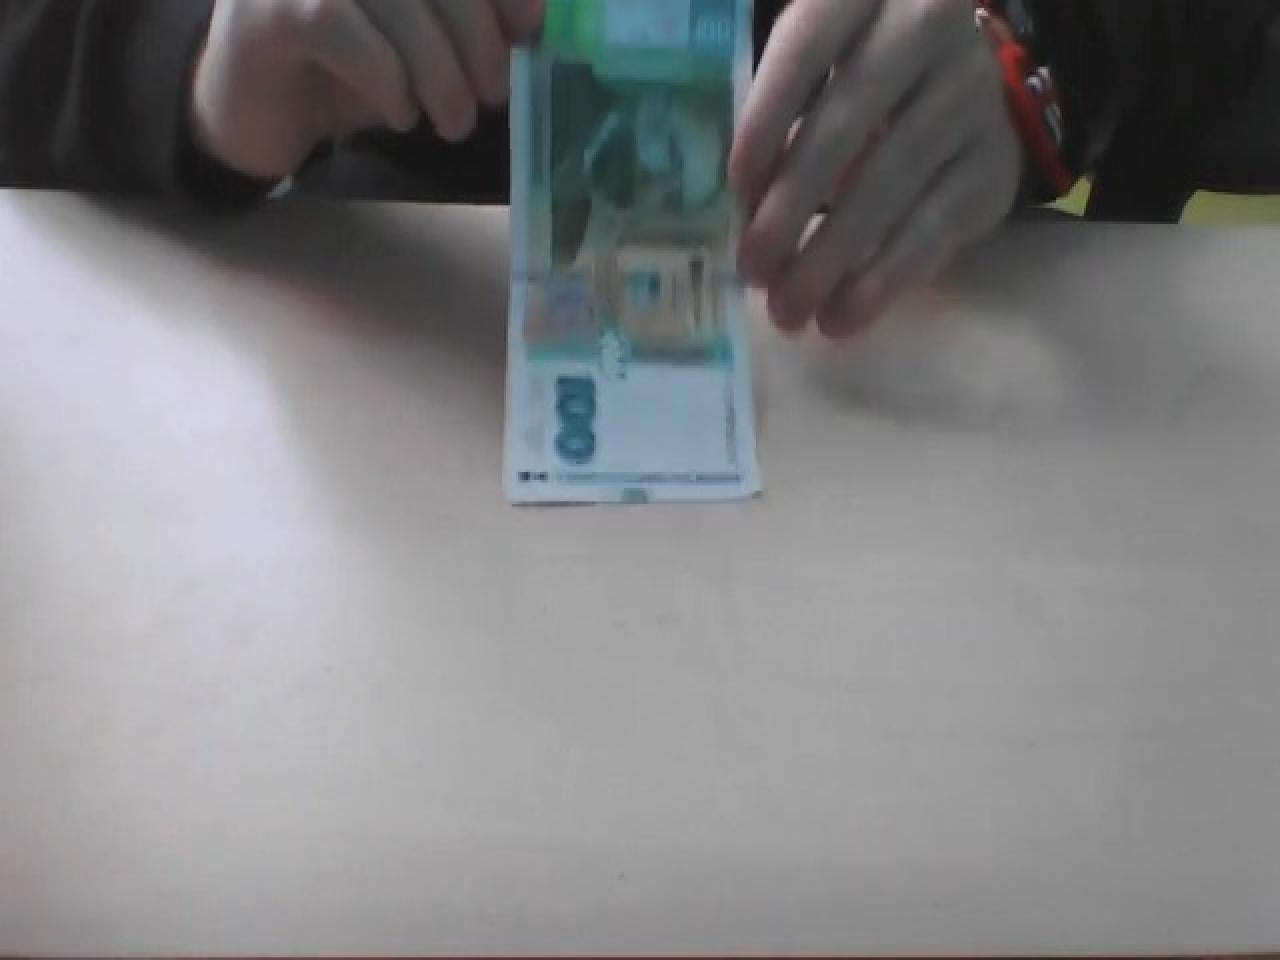100leva: (502, 0, 772, 512)
